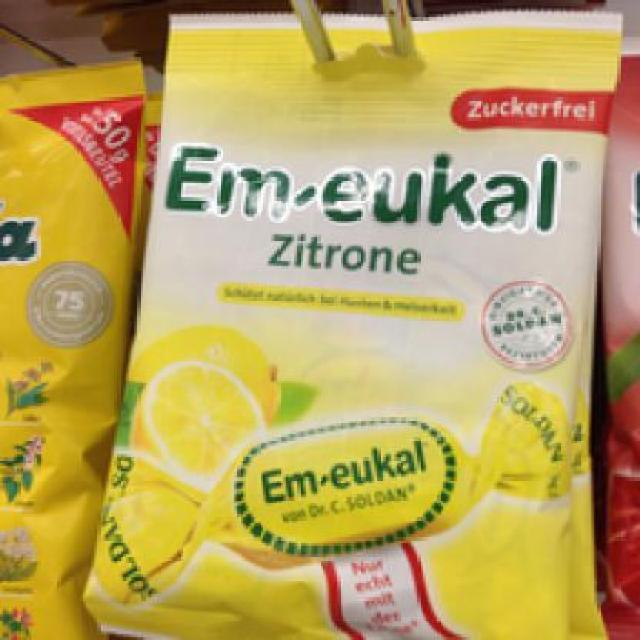Candy: (120, 14, 606, 623), (0, 47, 169, 624)
